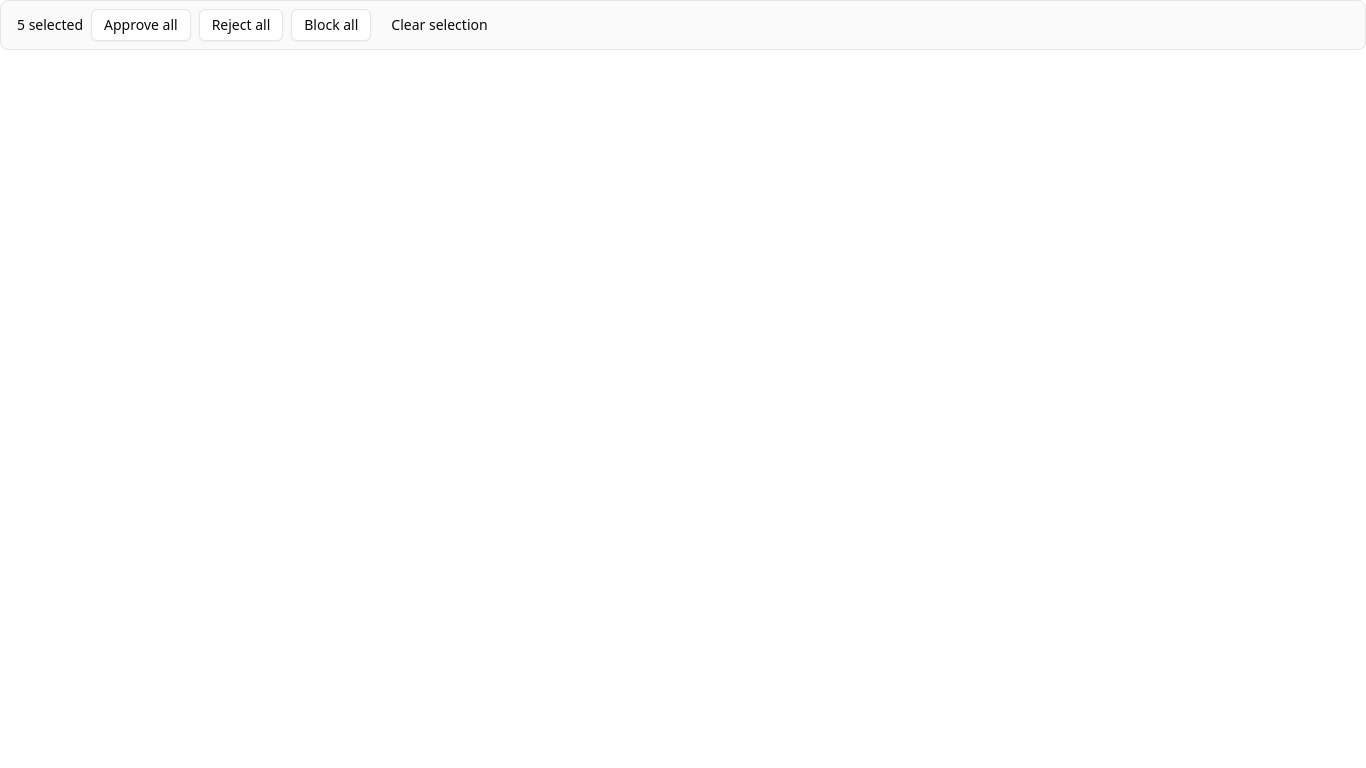
Test: ReviewBulkActions › surfaces skipped counts when some reviews are not eligible
Step 1. Click the button "Approve all" → (141, 25), box [91, 9, 191, 41]
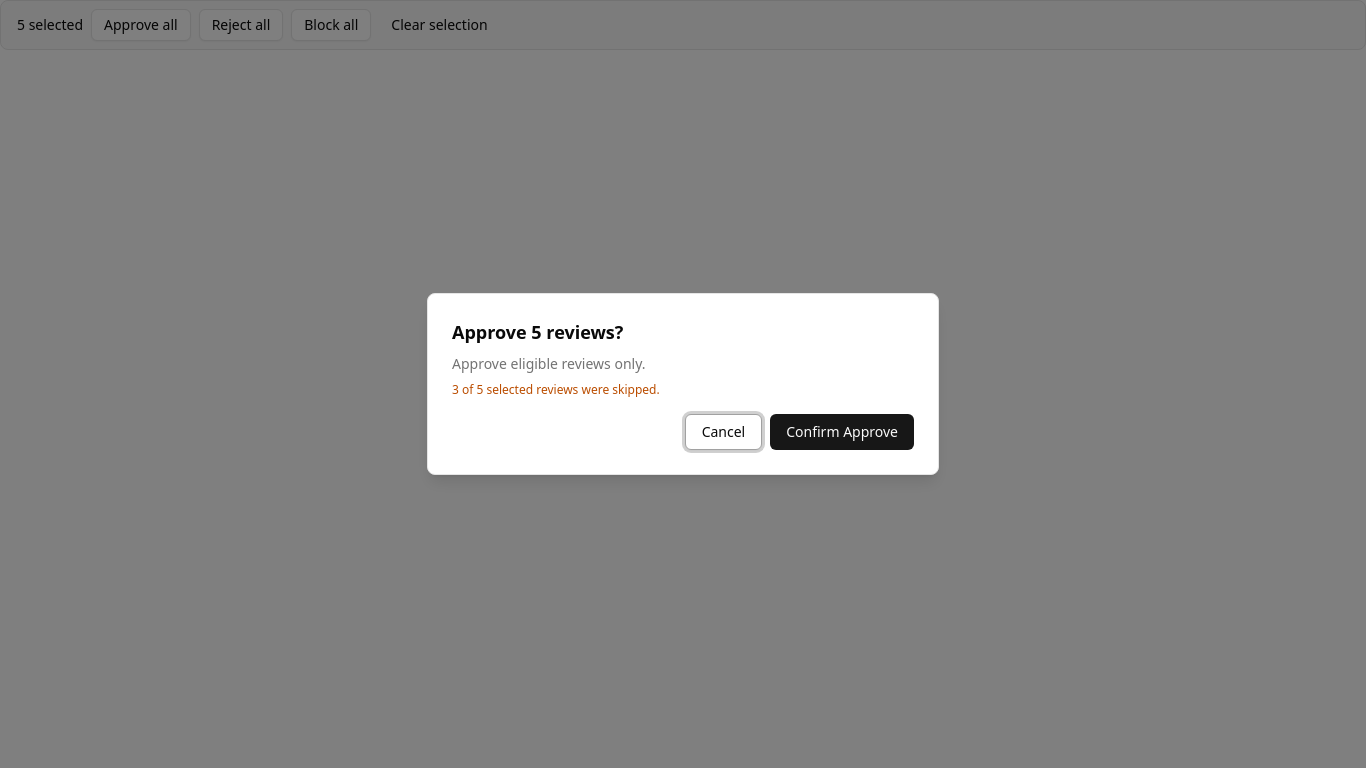
Expected: the text "3 of 5 selected reviews were skipped." is shown, [452, 381, 660, 398]
